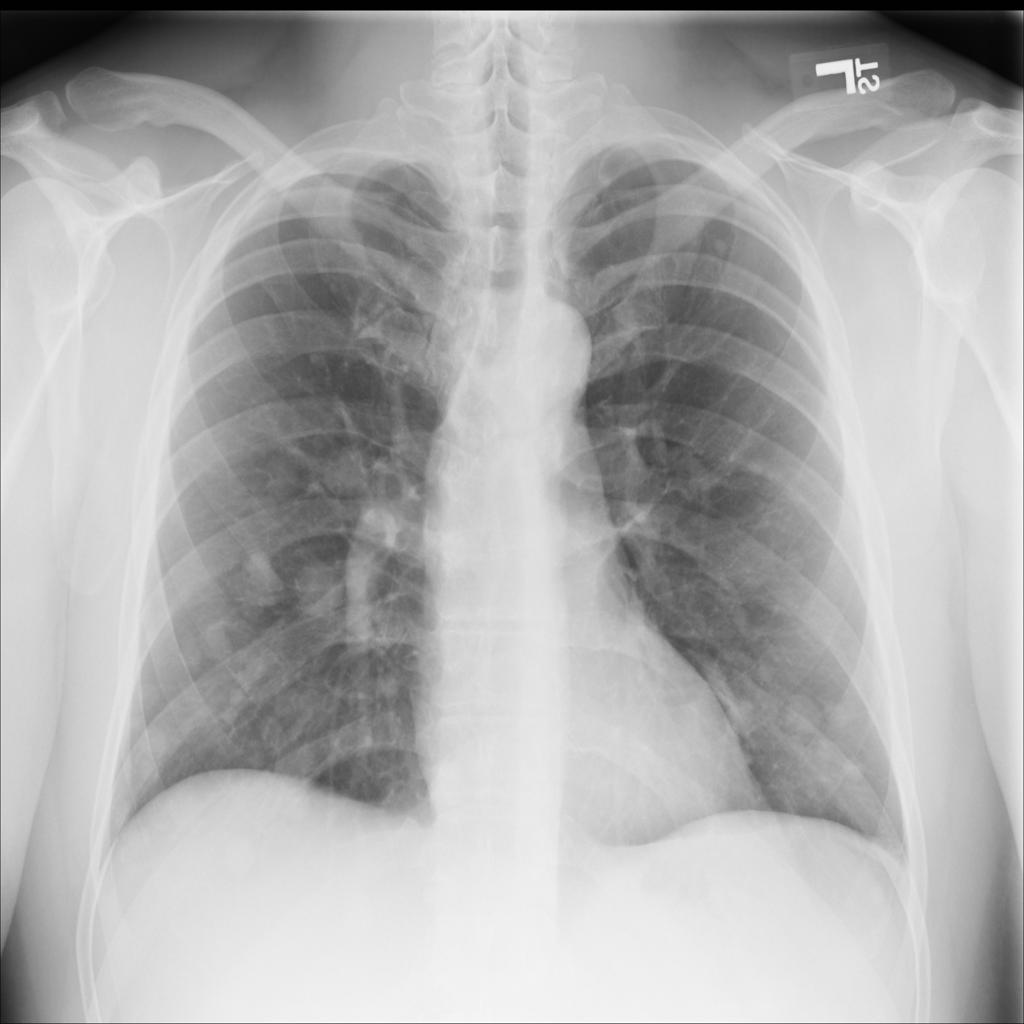nodule: (772, 676, 843, 752), (313, 432, 384, 507), (223, 542, 292, 617), (289, 549, 353, 628), (121, 714, 183, 793), (181, 606, 248, 675), (721, 686, 768, 741), (825, 743, 877, 792), (696, 216, 741, 271)
